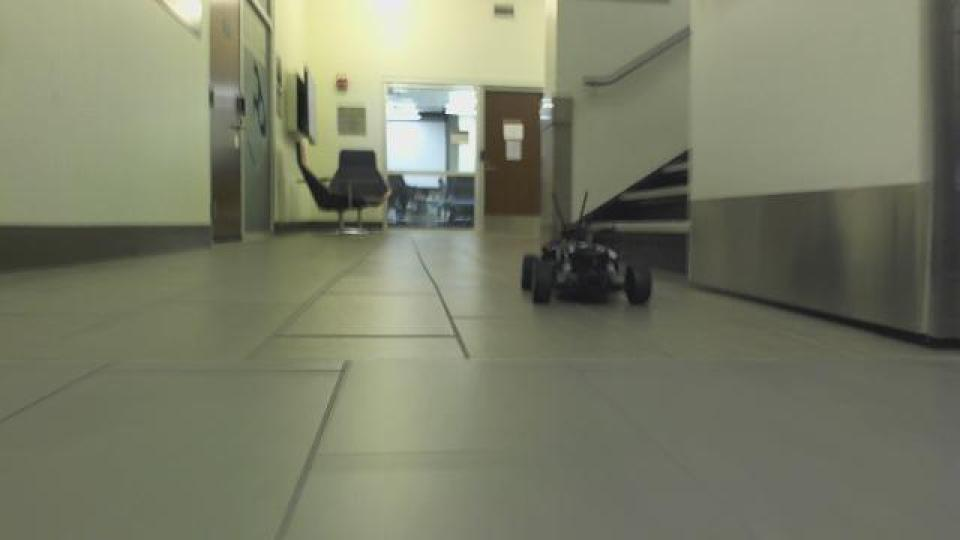car: (516, 189, 656, 309)
